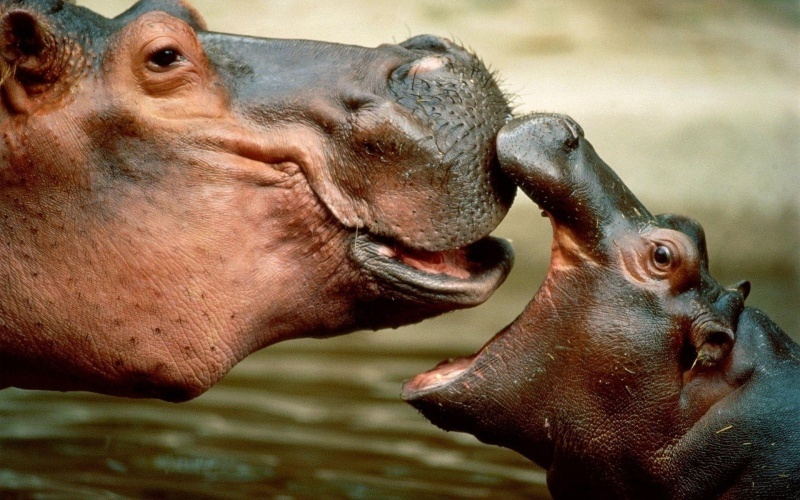hipopotamo: (0, 2, 532, 410), (402, 109, 800, 493)
